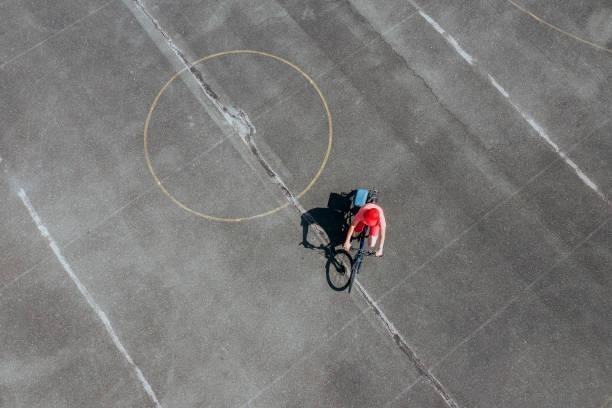Motorcycle: (334, 184, 388, 302)
